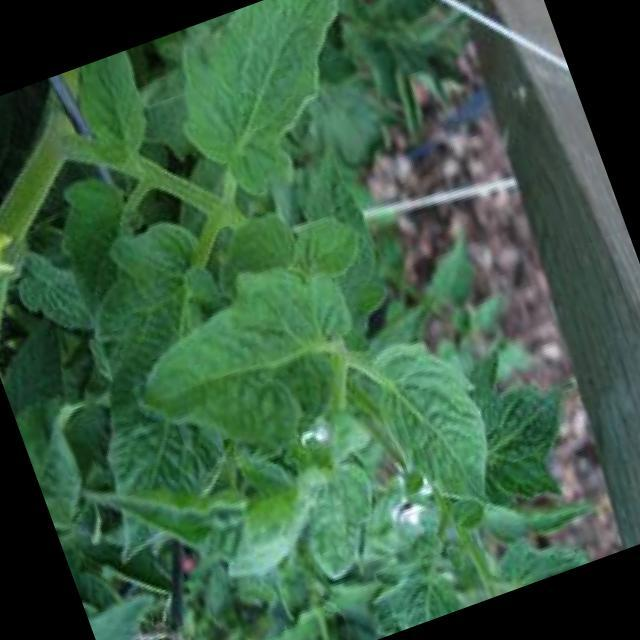Tomato healthy leaf: (101, 237, 390, 493), (137, 0, 449, 224), (346, 307, 510, 526), (53, 49, 170, 190), (98, 202, 214, 314), (286, 204, 372, 284)
